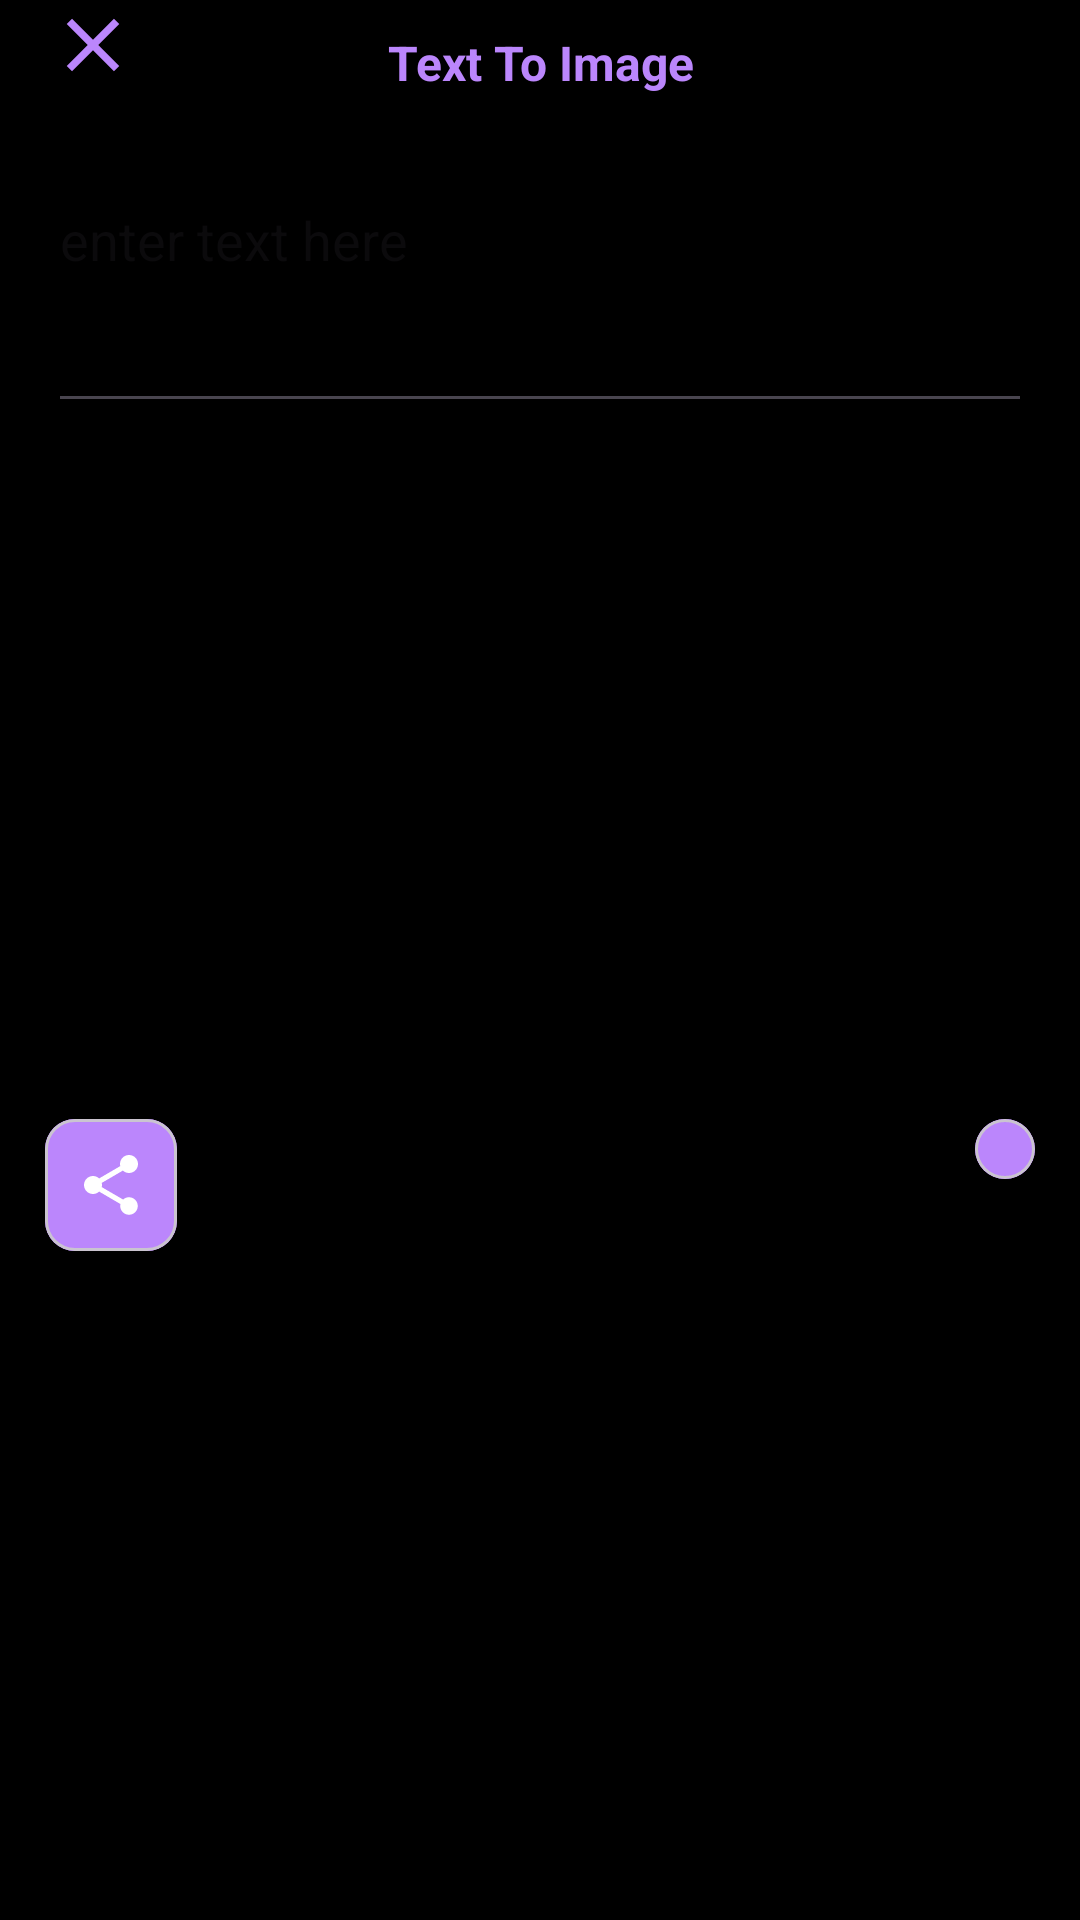

Icons on this 1080px×1920px Android screen, each with the point to tap as (x,y):
Close Dialog: (93,45)
Share Text: (111,1185)
